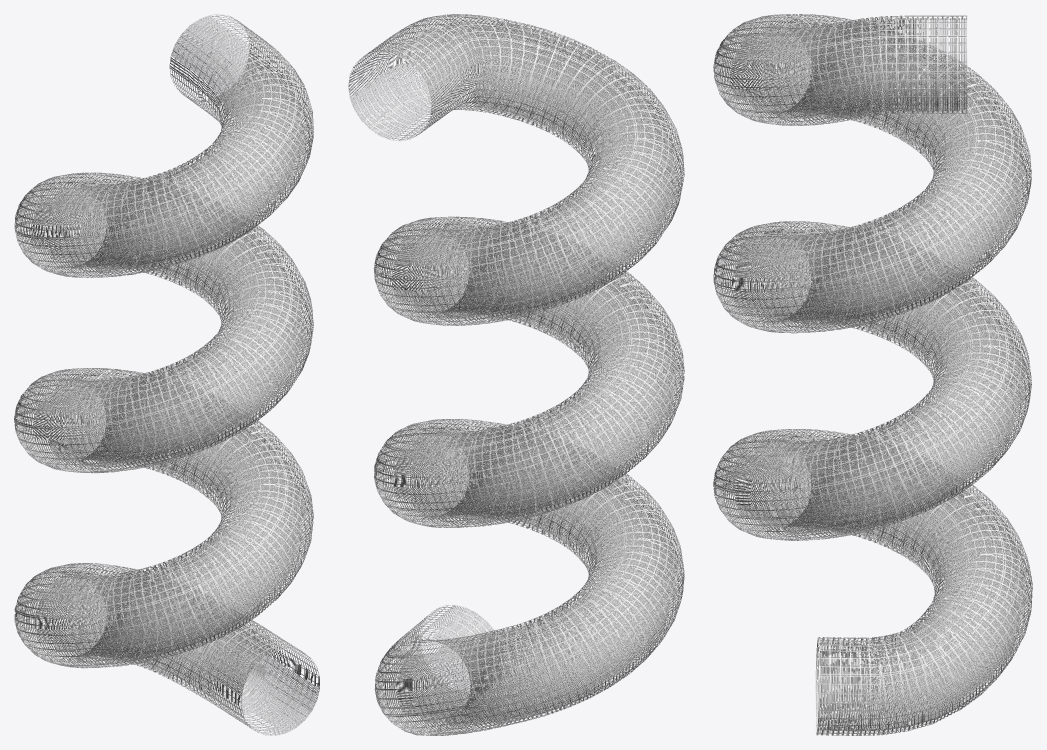
The model's file is Spiral Tunnel1.fbx.
3 renders of one model, left to right at view 1: azimuth 30°, elevation 25°; view 2: azimuth 150°, elevation 25°; view 3: azimuth 270°, elevation 25°, orthographic. The views are drawn at different scales.
Parts seen in each view (by area): view 1: Spiral_Tunnel; view 2: Spiral_Tunnel; view 3: Spiral_Tunnel.
Part boxes in pixels (x1,y1,x2,y2): Spiral_Tunnel: [14, 14, 319, 735]; Spiral_Tunnel: [348, 14, 684, 735]; Spiral_Tunnel: [713, 14, 1032, 735].
Bounding box in the file's own units: 18168 × 44619 × 18178.
